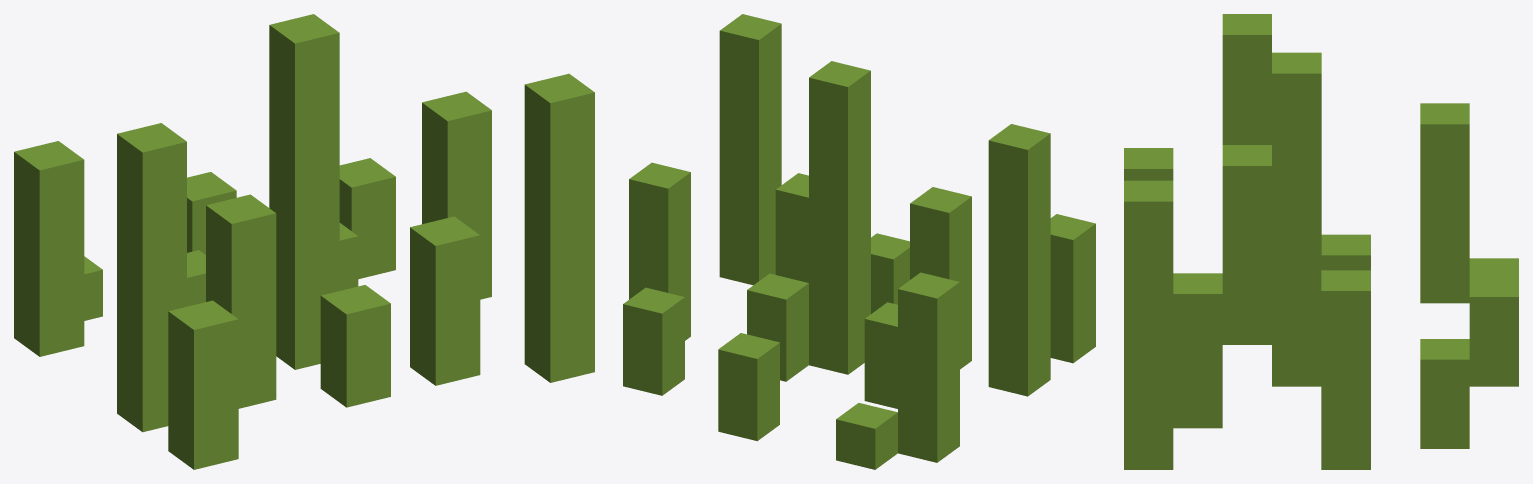
File: ShortGrass.obj
3 renders of one model, left to right at view 1: azimuth 30°, elevation 25°; view 2: azimuth 150°, elevation 25°; view 3: azimuth 270°, elevation 25°, orthographic. The views are drawn at different scales.
Visible parts, largest first — view 1: ShortGrass; view 2: ShortGrass; view 3: ShortGrass.
Boxes of the visible parts, x1=… form: ShortGrass: x1=14, y1=14, x2=594, y2=469; ShortGrass: x1=623, y1=14, x2=1095, y2=469; ShortGrass: x1=1124, y1=14, x2=1518, y2=469.
Size of the model in its own units: 9 by 7 by 8.
Materials: 1 (1 with a texture image).
